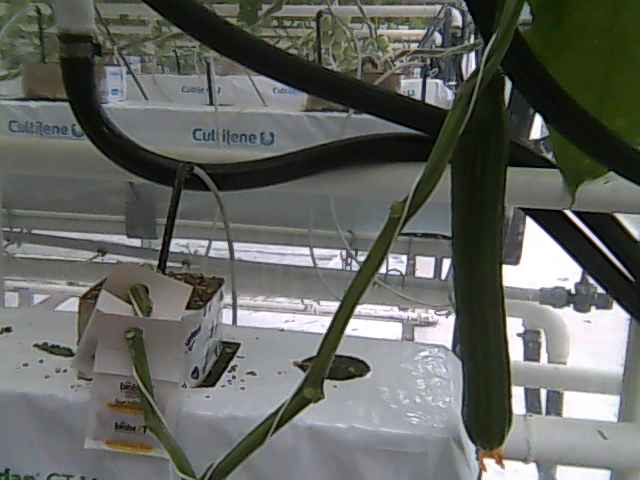concombre: (451, 59, 514, 474)
